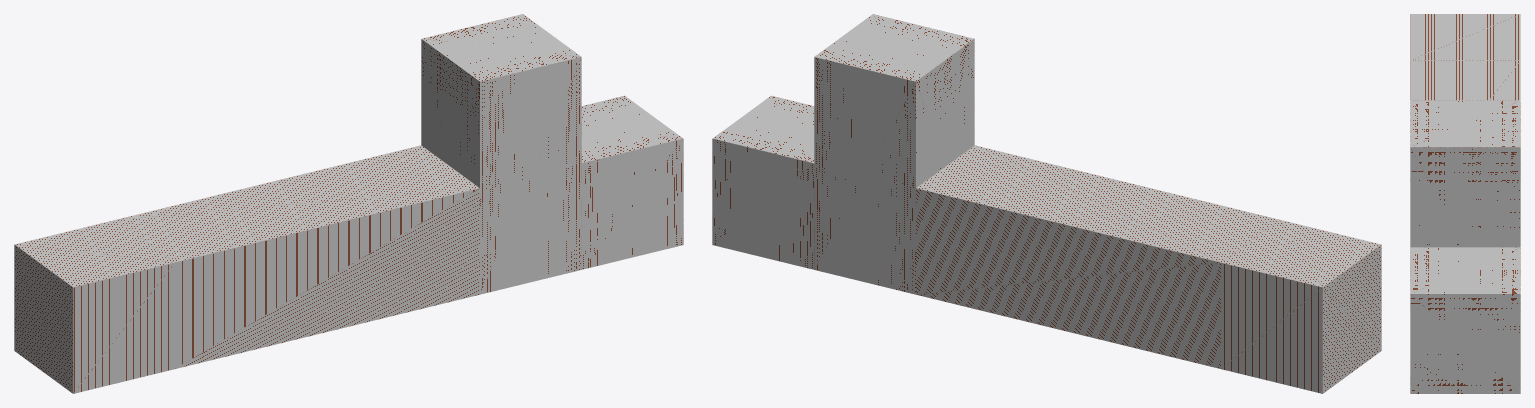
The model's file is wood-stick-02.fbx.
The picture shows the model from 3 angles, left to right: view 1: azimuth 30°, elevation 25°; view 2: azimuth 150°, elevation 25°; view 3: azimuth 270°, elevation 25°; orthographic projection. The views are drawn at different scales.
Parts seen in each view (by area): view 1: generated; view 2: generated; view 3: generated.
Boxes of the visible parts, left/top/right/bottom form: generated: left=14, top=14, right=683, bottom=393; generated: left=712, top=14, right=1381, bottom=393; generated: left=1410, top=14, right=1520, bottom=393.
Size of the model in its own units: 60 by 20 by 10.
1 material, 1 textured.
